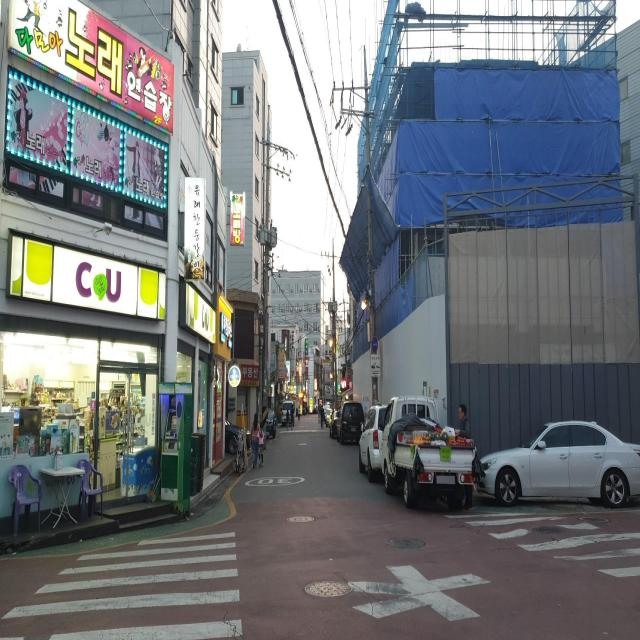횡단보도: (0, 528, 243, 640), (443, 509, 640, 589)
